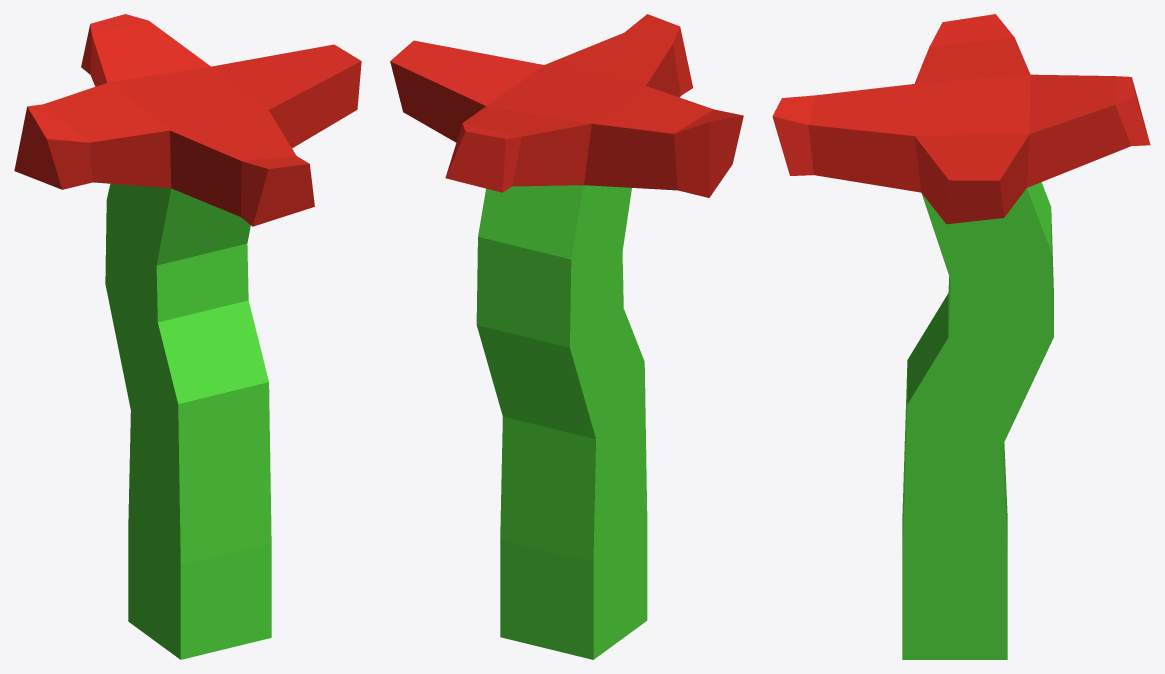
File: flower_red_1.glb
3 renders of one model, left to right at view 1: azimuth 30°, elevation 25°; view 2: azimuth 150°, elevation 25°; view 3: azimuth 270°, elevation 25°, orthographic. The views are drawn at different scales.
Visible parts, largest first — view 1: Cube; view 2: Cube; view 3: Cube.
Part boxes in pixels (box(x1,y1,x2,y2)): Cube: box(14, 14, 361, 659); Cube: box(390, 14, 743, 659); Cube: box(772, 14, 1150, 659).
Bounding box in the file's own units: 0.3503 × 0.5753 × 0.3585.
